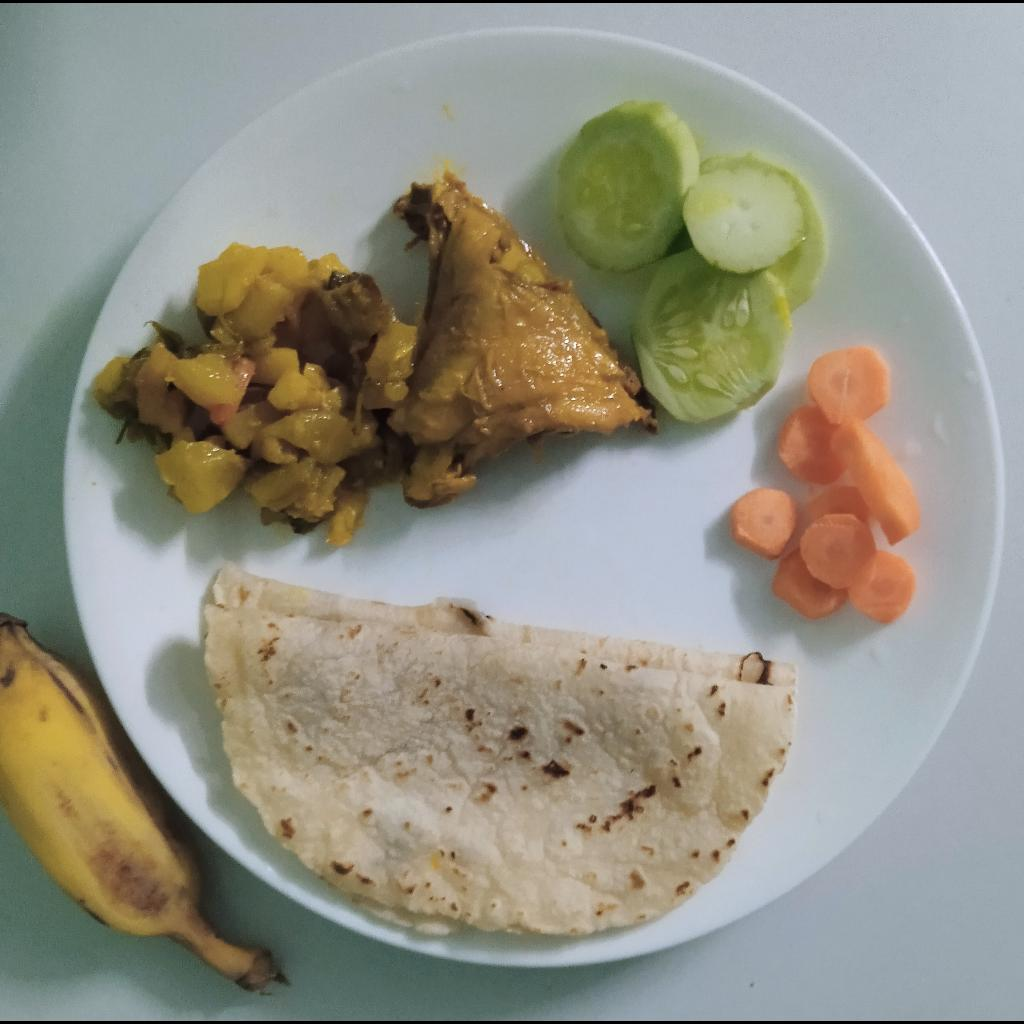banana: (0, 611, 292, 992)
carrot: (730, 346, 920, 623)
chicken: (389, 169, 653, 508)
cucumber: (559, 99, 827, 425)
ruti: (204, 562, 797, 934)
vegetable: (91, 242, 416, 550)
